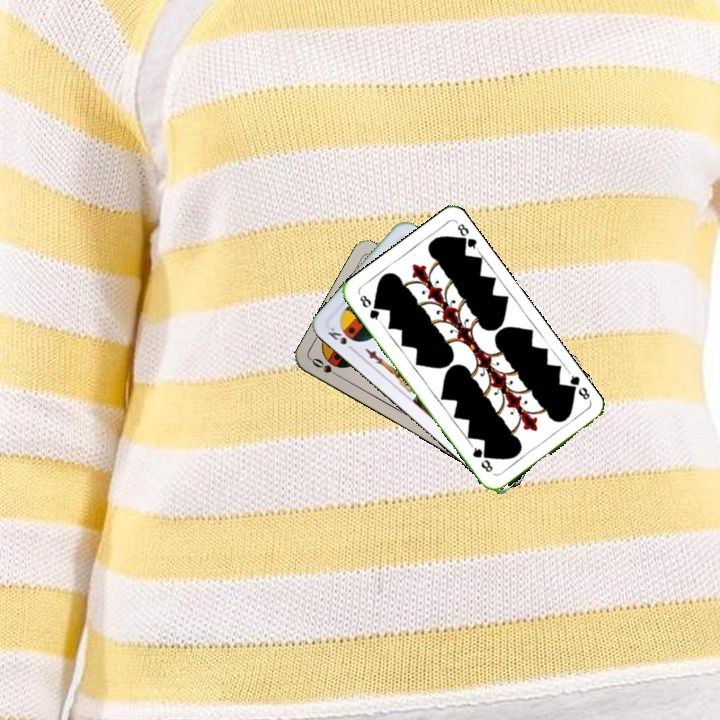G8: (562, 369, 592, 403), (355, 291, 384, 325)
SK: (323, 323, 358, 354)
SO: (307, 354, 344, 381)
